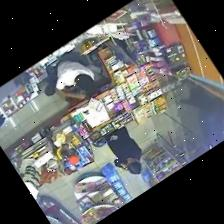person: (45, 59, 95, 97), (105, 126, 141, 173)
